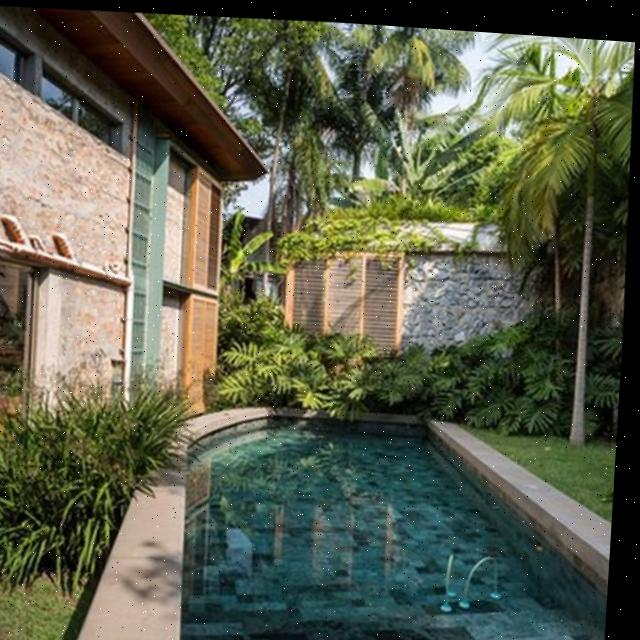building: (0, 0, 279, 447), (275, 203, 561, 373)
